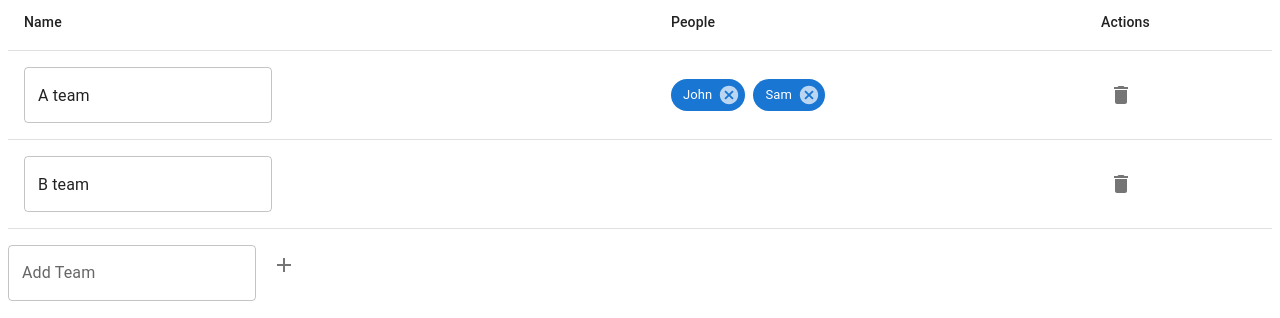
TeamsPage › test member removal
Expected: the number of buttons with test id "memberName" is 2, [671,79,745,111]; [753,79,825,111]
Step 1. Click the 1st icon → coordinates (729, 95), box [718,84,740,106]
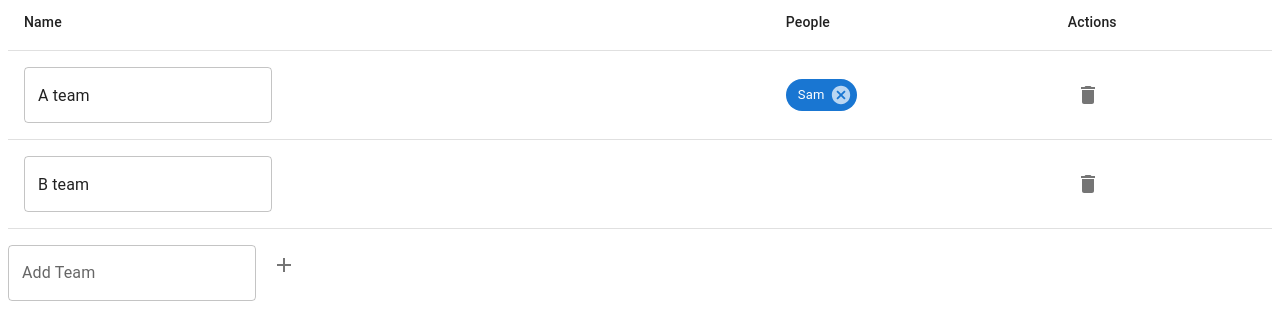
Expected: the text "Sam" is shown, [798,87,824,102]
Expected: the number of buttons with test id "memberName" is 1, [786,79,857,111]
